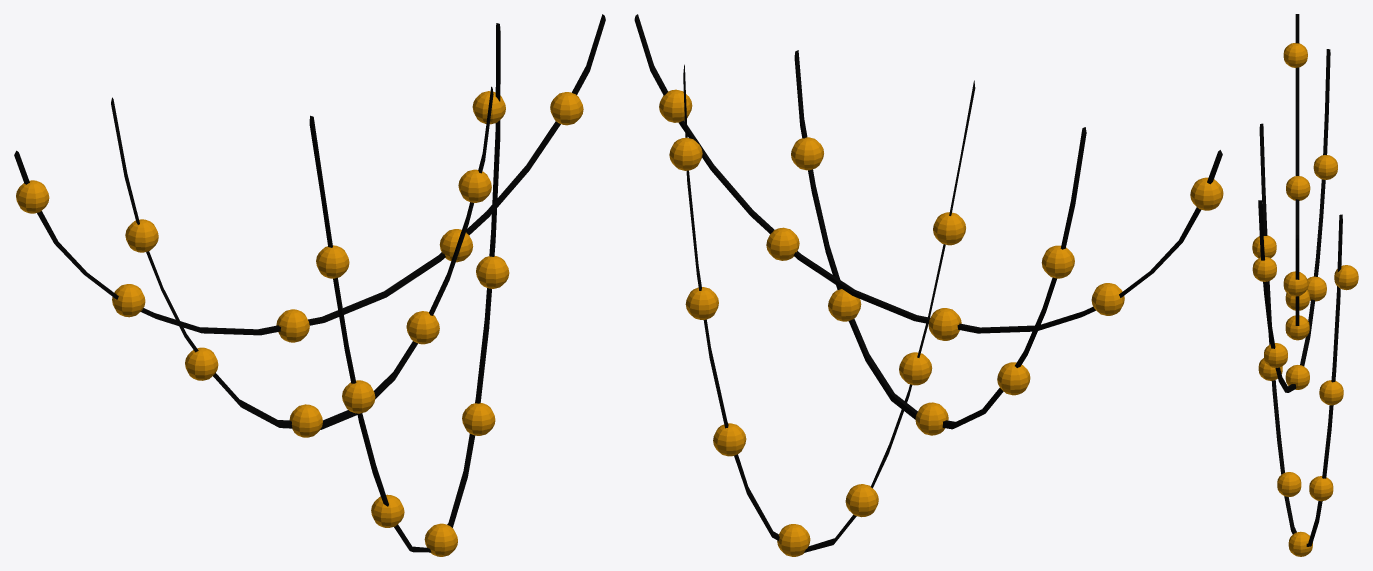
File: Fairy Lights.fbx
The picture shows the model from 3 angles, left to right: view 1: azimuth 30°, elevation 25°; view 2: azimuth 150°, elevation 25°; view 3: azimuth 270°, elevation 25°; orthographic projection. The views are drawn at different scales.
Visible parts, largest first — view 1: Fairy_Lights; view 2: Fairy_Lights; view 3: Fairy_Lights.
Part boxes in pixels (x1,y1,x2,y2): Fairy_Lights: [14, 14, 605, 556]; Fairy_Lights: [634, 14, 1223, 556]; Fairy_Lights: [1252, 14, 1358, 556].
Size of the model in its own units: 6.61 by 5.57 by 1.37.
